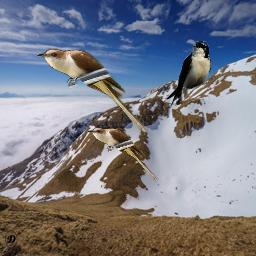Cuckoo: (36, 48, 149, 134), (87, 127, 159, 182)
Swallow: (166, 41, 211, 108)
